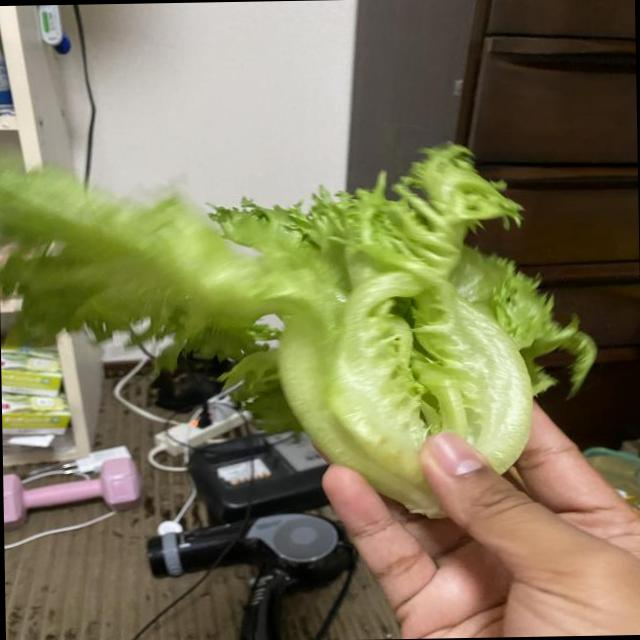Lettuce-Ready-to-Harvest: (0, 144, 596, 516)
